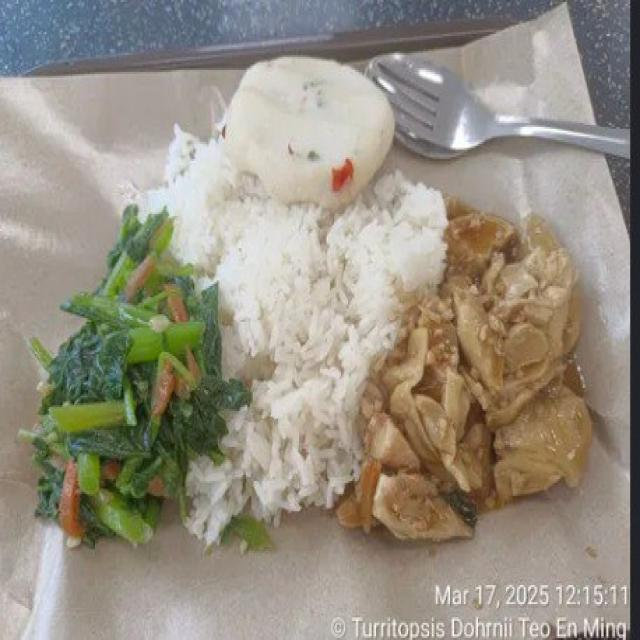Chicken: (337, 199, 591, 538)
Fish: (225, 57, 394, 206)
Green veg: (21, 189, 254, 543), (228, 515, 270, 547)
Rice: (136, 131, 446, 543)
